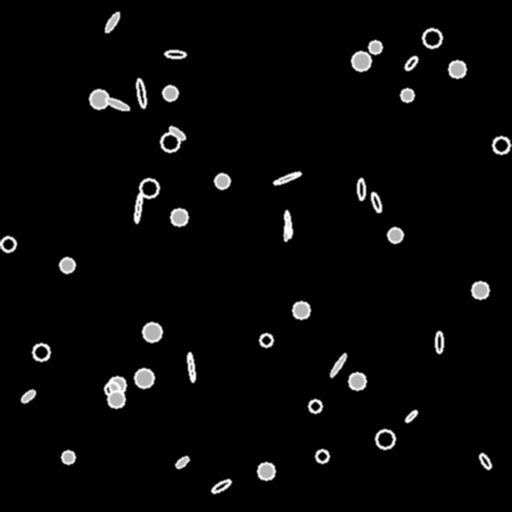pseudomonas: (273, 170, 301, 186), (329, 353, 347, 377), (104, 96, 130, 112), (135, 78, 147, 108), (104, 11, 120, 33), (210, 478, 232, 494), (369, 191, 383, 213), (168, 125, 186, 141), (174, 454, 190, 470), (20, 388, 36, 404), (403, 55, 419, 71), (478, 452, 492, 470), (134, 193, 142, 223), (187, 353, 195, 381), (284, 210, 292, 238), (404, 409, 418, 423), (357, 178, 365, 200), (283, 218, 291, 240), (164, 50, 186, 58), (436, 332, 442, 353)
synechocystis: (352, 52, 370, 70), (90, 90, 108, 108), (135, 369, 153, 387), (143, 323, 161, 341), (423, 29, 441, 47), (161, 133, 179, 151), (376, 430, 394, 448), (140, 179, 158, 197), (109, 377, 125, 393), (349, 373, 365, 389), (171, 209, 187, 225), (293, 302, 309, 318), (33, 344, 49, 360), (493, 137, 509, 153), (258, 463, 274, 479), (449, 61, 465, 77), (472, 282, 488, 298), (108, 391, 124, 407), (105, 382, 119, 396), (163, 86, 177, 100), (215, 174, 229, 188), (1, 237, 15, 251), (388, 228, 402, 242), (60, 258, 74, 272), (62, 451, 74, 463), (401, 89, 413, 101), (369, 41, 381, 53), (260, 334, 272, 346), (309, 400, 321, 412), (316, 450, 328, 462)
